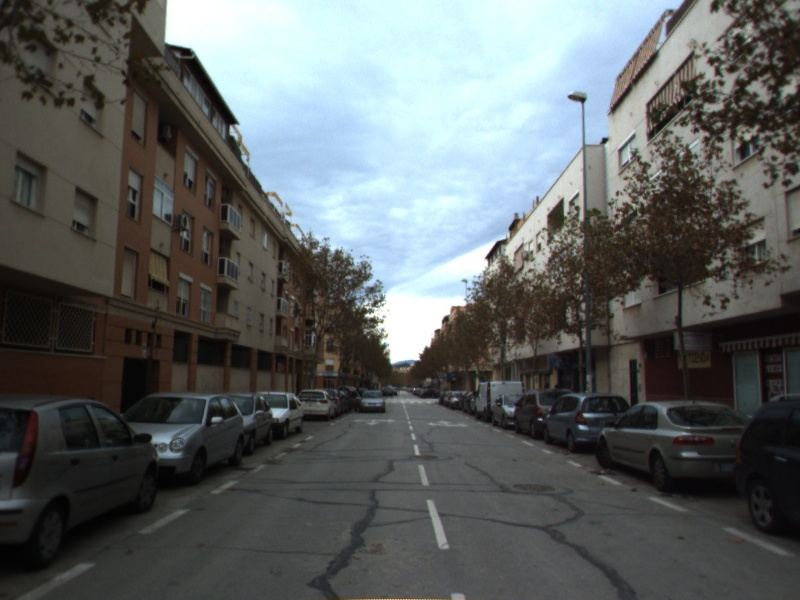STRAIGHT_LEFT_RIGHT: (426, 418, 470, 429)
